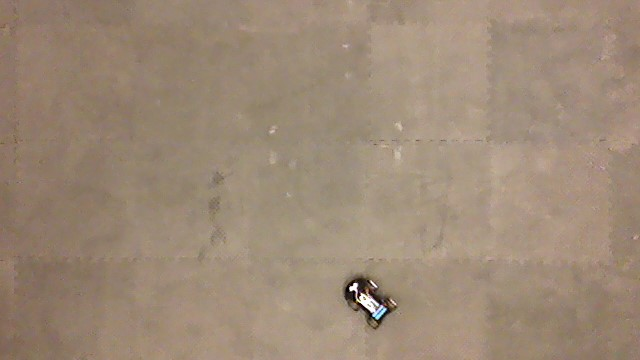Agent: (343, 275, 400, 331)
